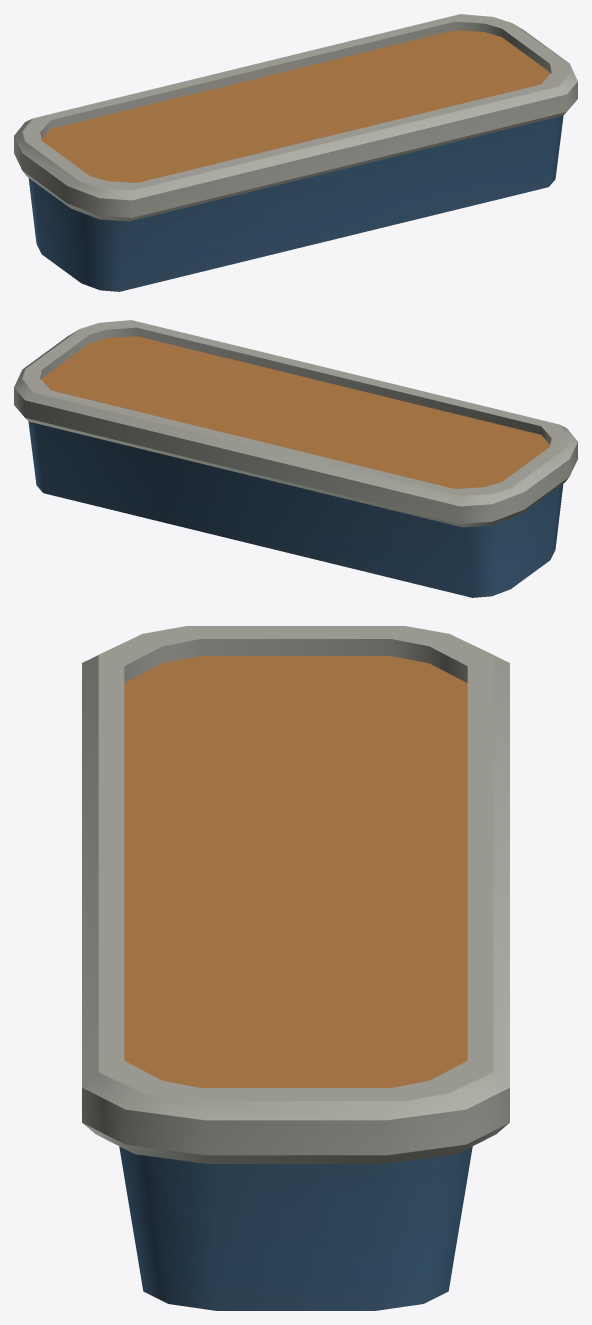
Rendered from BushPot_1_E.fbx.
3 renders of one model, top to bottom at view 1: azimuth 30°, elevation 25°; view 2: azimuth 150°, elevation 25°; view 3: azimuth 270°, elevation 25°, orthographic. The views are drawn at different scales.
Parts seen in each view (by area): view 1: BushPot_1_E; view 2: BushPot_1_E; view 3: BushPot_1_E.
Boxes of the visible parts, box(x1,y1,x2,y2) form: BushPot_1_E: box(14, 14, 577, 291); BushPot_1_E: box(14, 320, 577, 597); BushPot_1_E: box(82, 626, 509, 1310).
Bounding box in the file's own units: 220 × 45.75 × 81.2.
